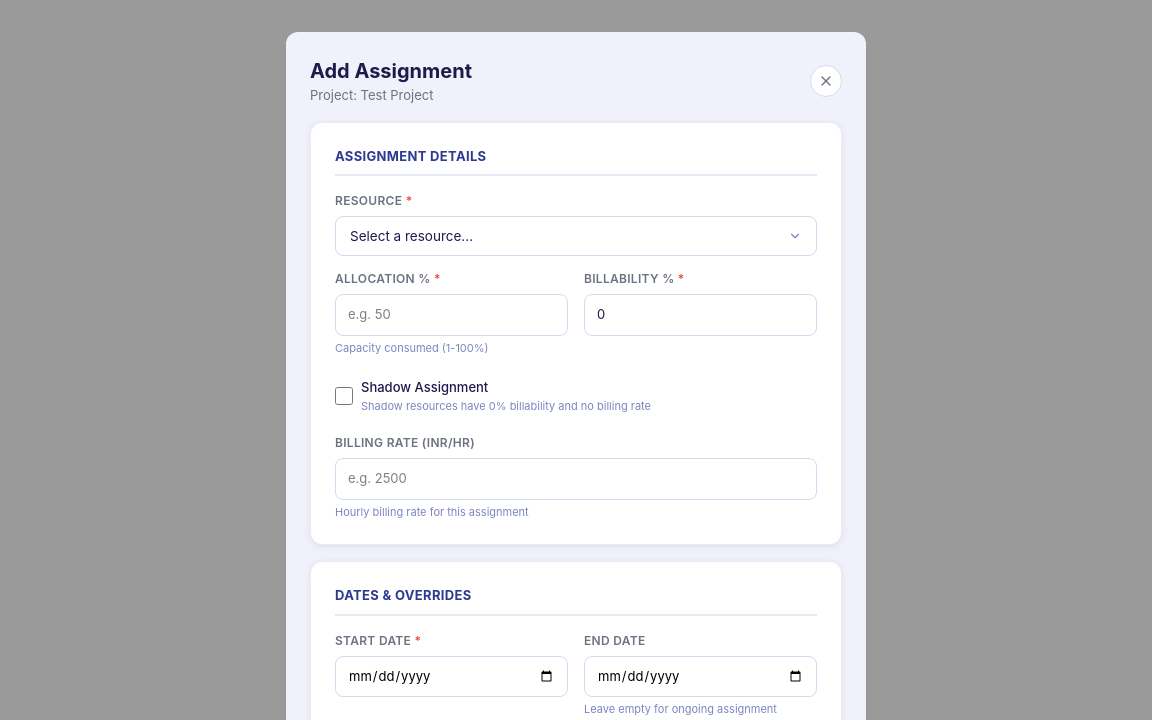
Test: AssignmentFormModal › validates billability cannot exceed allocation
In the number field with placeholder "e.g. 50": (452, 315) 335,294 -> 568,336, type "30"
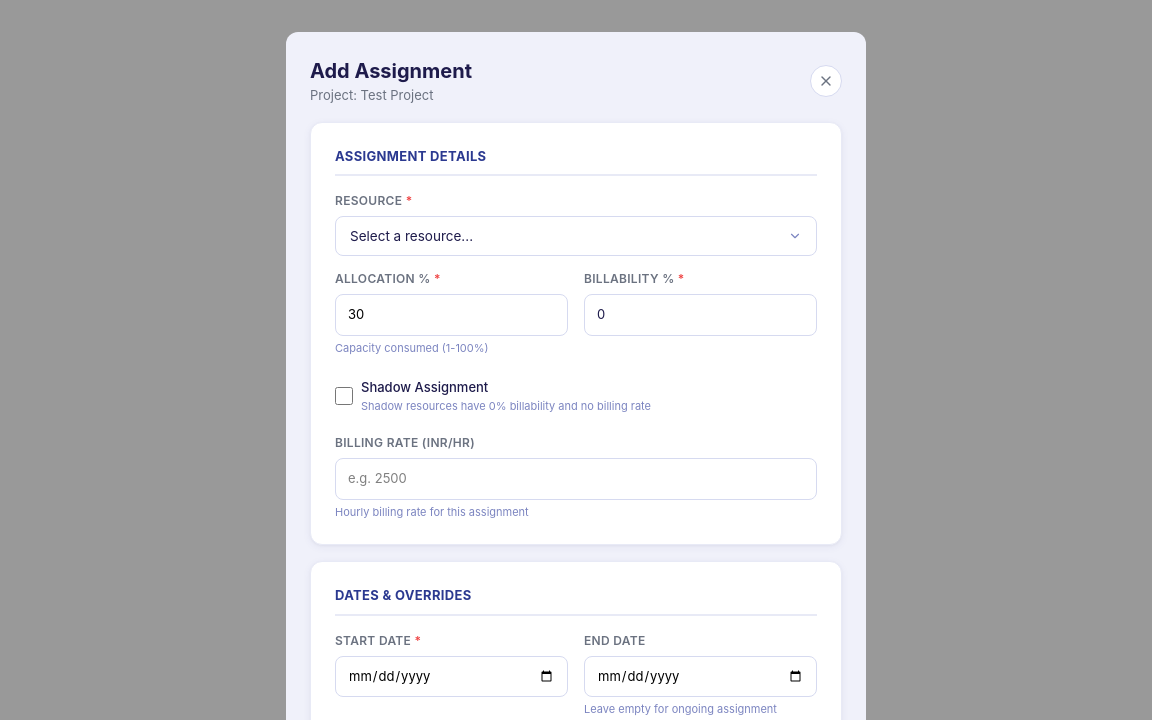
Replace the text in the number field below "Billability %" with "50": (700, 315) 584,294 -> 817,336
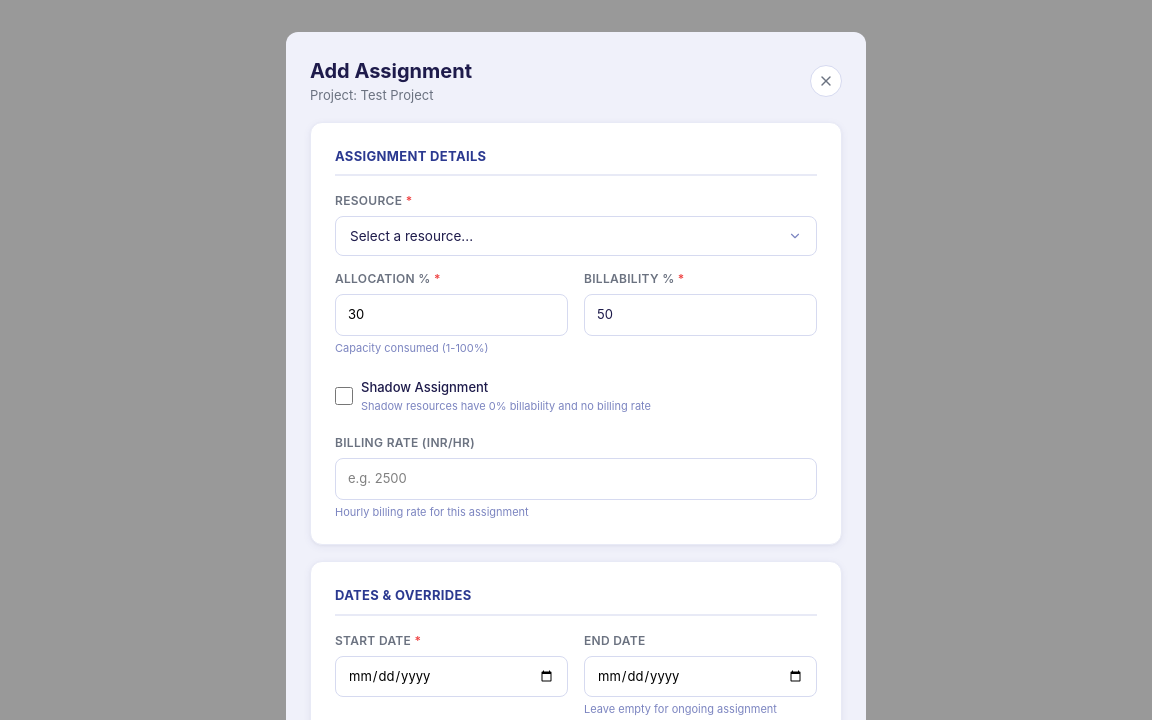
Expected: the text "Select a resource..." is shown, 350,226 -> 473,246
Click the button "Select a resource...": (412, 236) 335,216 -> 817,256
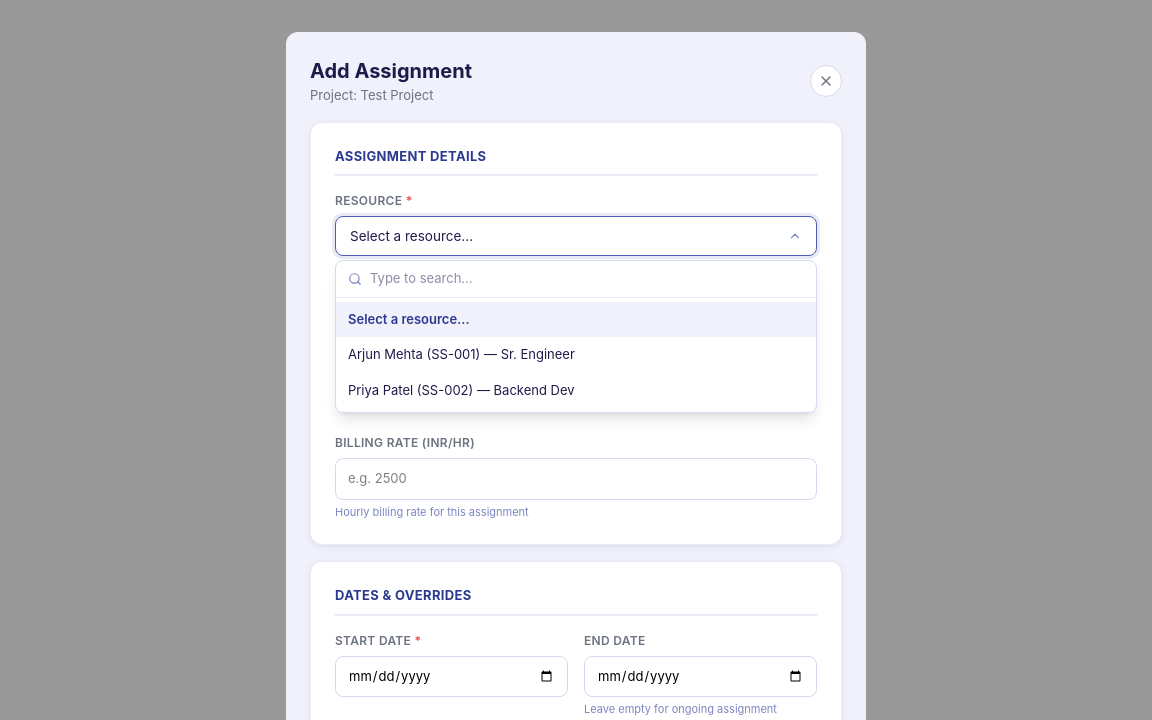
Expected: the text "Priya Patel (SS-002) — Backend Dev" is shown
Click the text "Priya Patel (SS-002) — Backend Dev": (461, 390) 348,382 -> 574,398
(page scrolled)
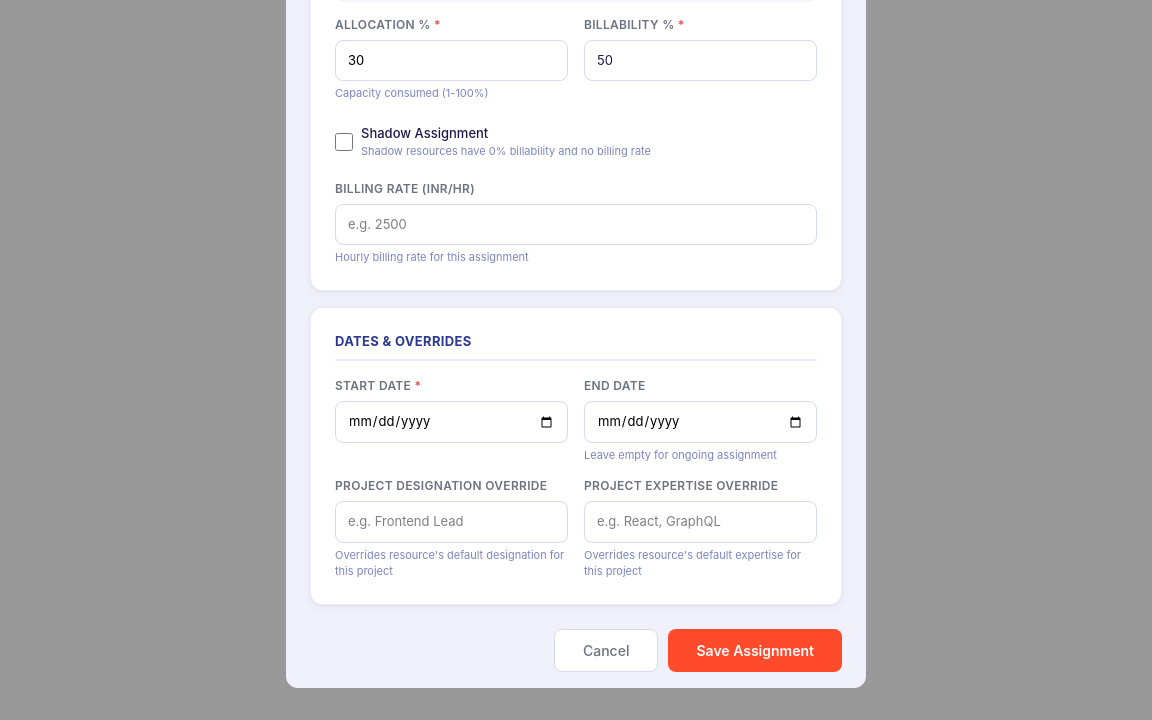
In the date field below "Start Date": (452, 422) 335,401 -> 568,443, type "2026-01-01"
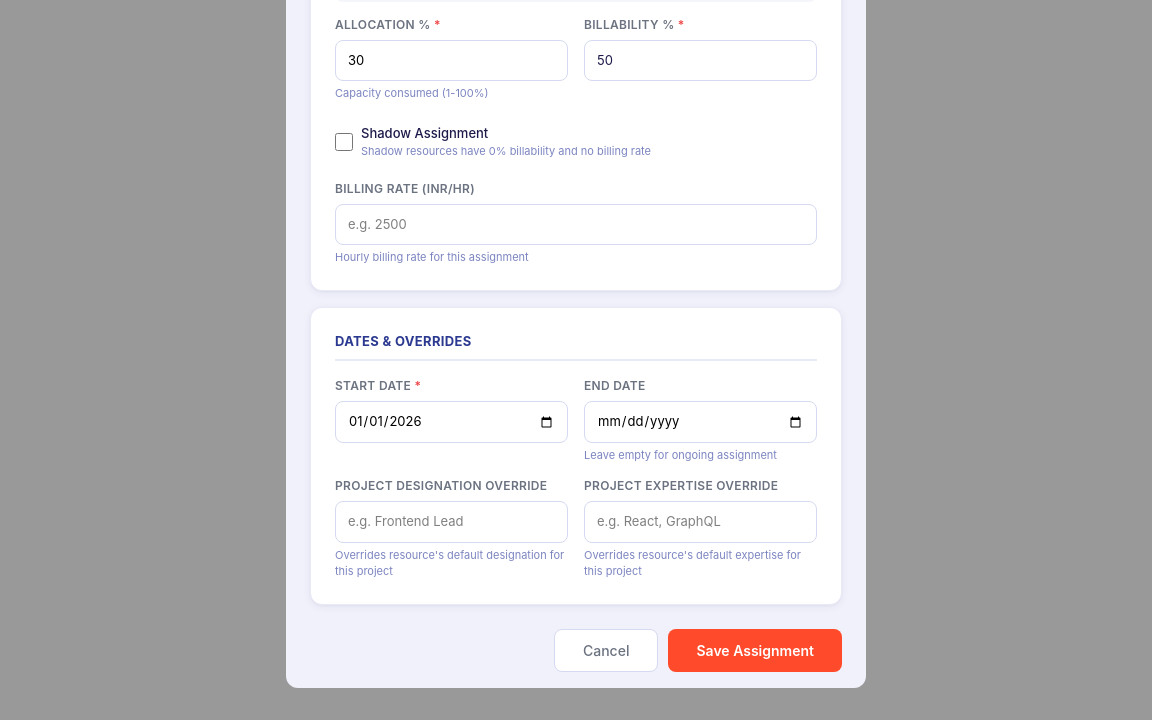
Click the button "Save Assignment": (755, 650) 668,629 -> 842,672
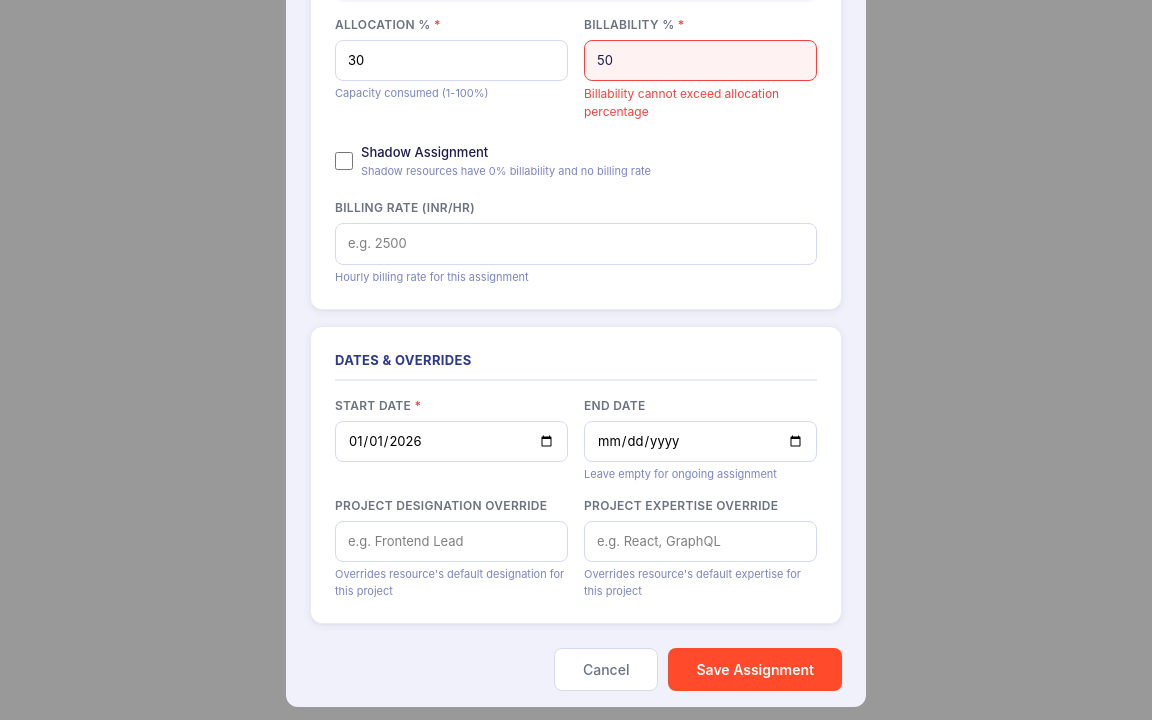
Expected: the text "Billability cannot exceed allocation percentage" is shown, 584,86 -> 779,119
